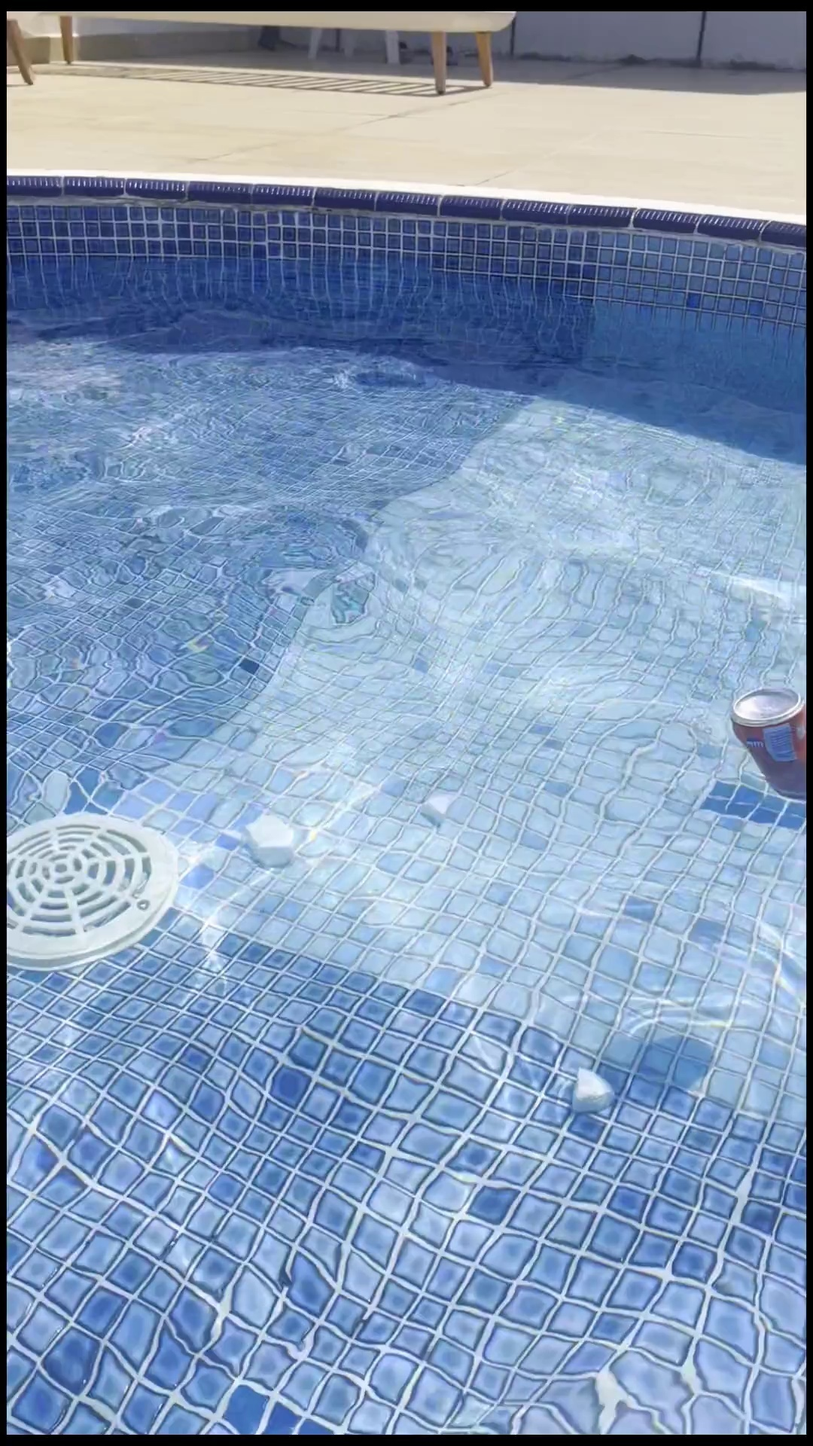debris: (723, 661, 802, 815)
